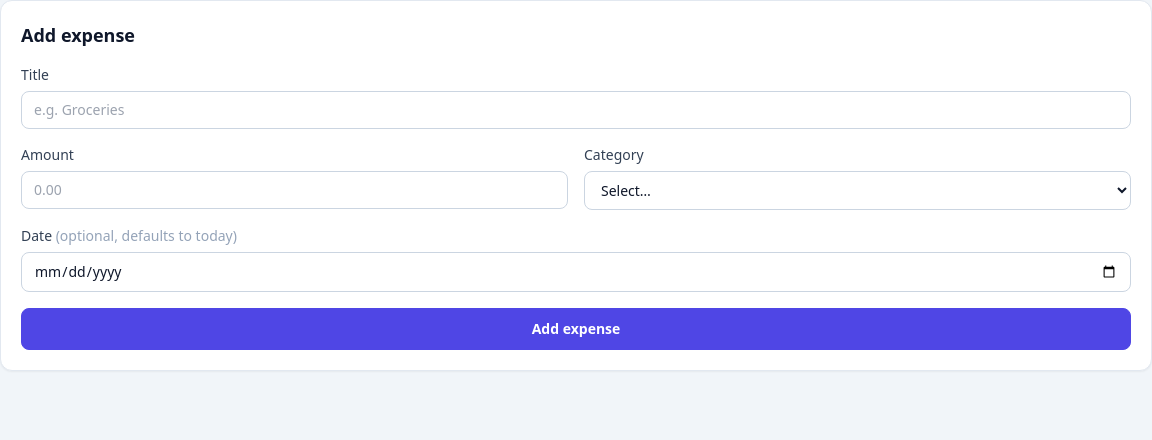
Test: ExpenseForm › shows the server error message
Step 1. Type "Groceries" into the field labelled "Title" → (576, 110), box x1=21 y1=91 x2=1131 y2=129
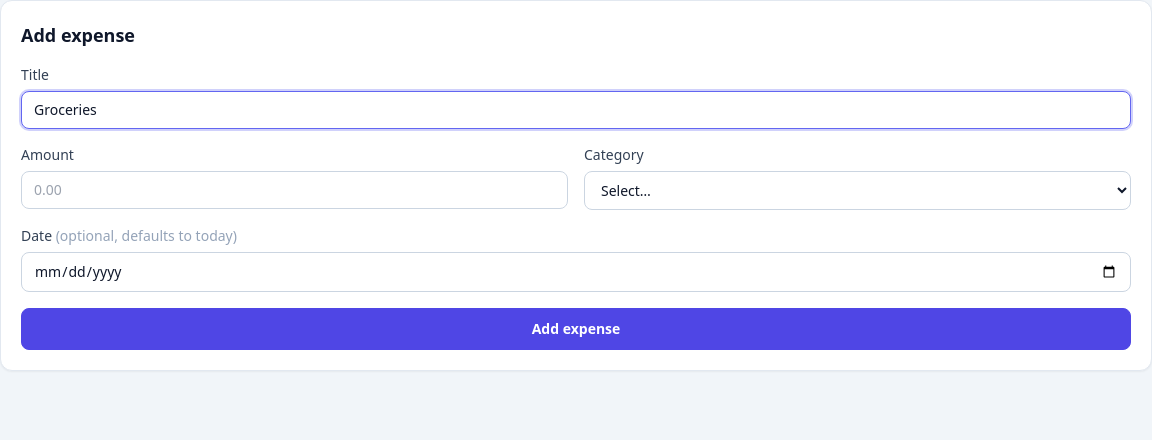
Step 2. Type "25.40" into the field labelled "Amount" → (294, 190), box x1=21 y1=171 x2=568 y2=209
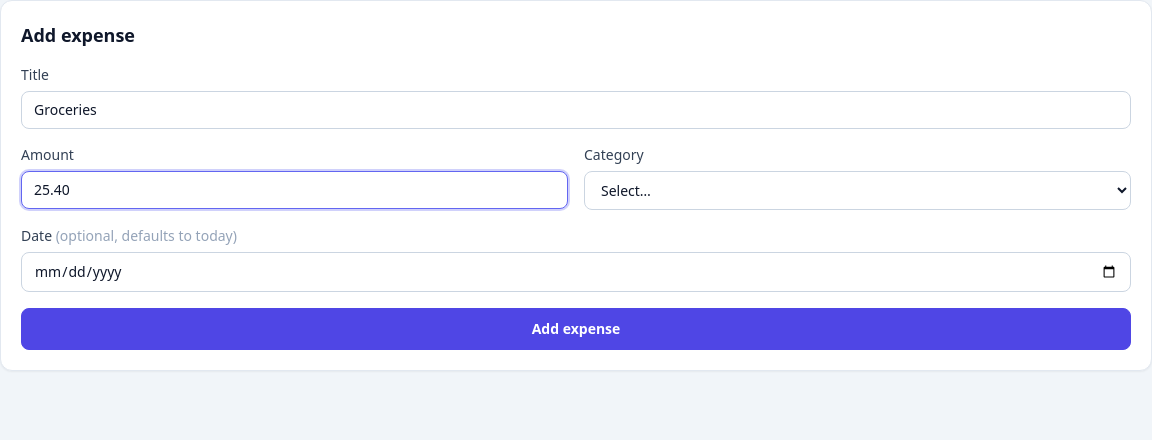
Step 3. Select "Food" in the dropdown labelled "Category" → (858, 190), box x1=584 y1=171 x2=1131 y2=210
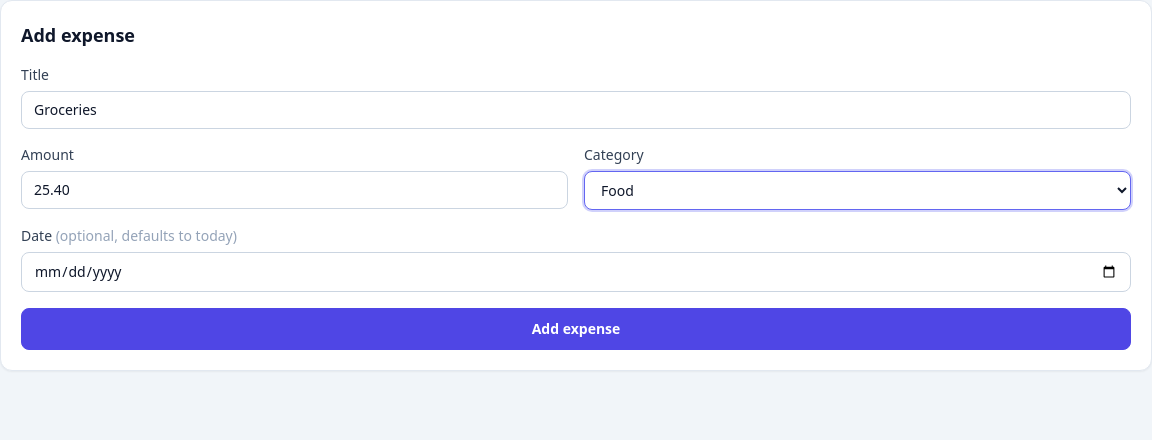
Step 4. Click the button "Add expense" → (576, 329), box x1=21 y1=308 x2=1131 y2=350
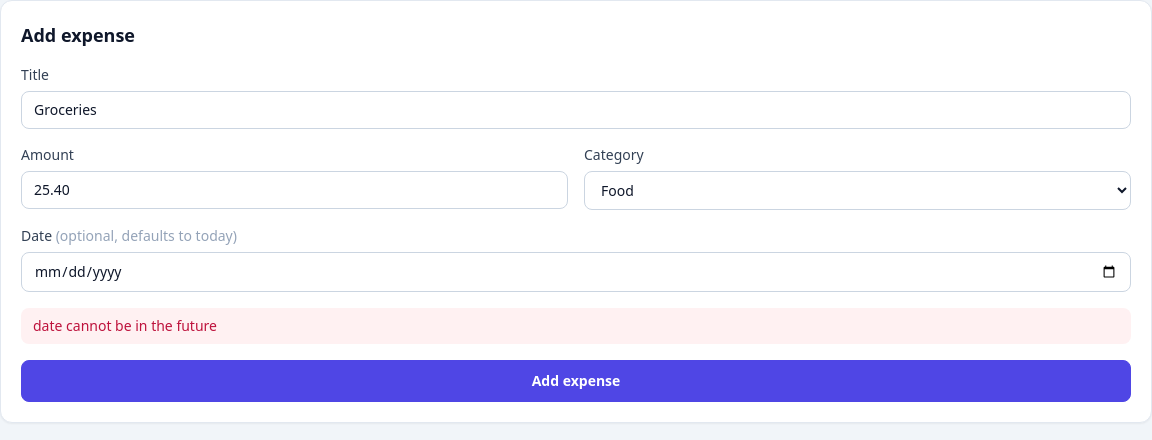
Result: the message reads "date cannot be in the future" at x1=33 y1=316 x2=217 y2=335
